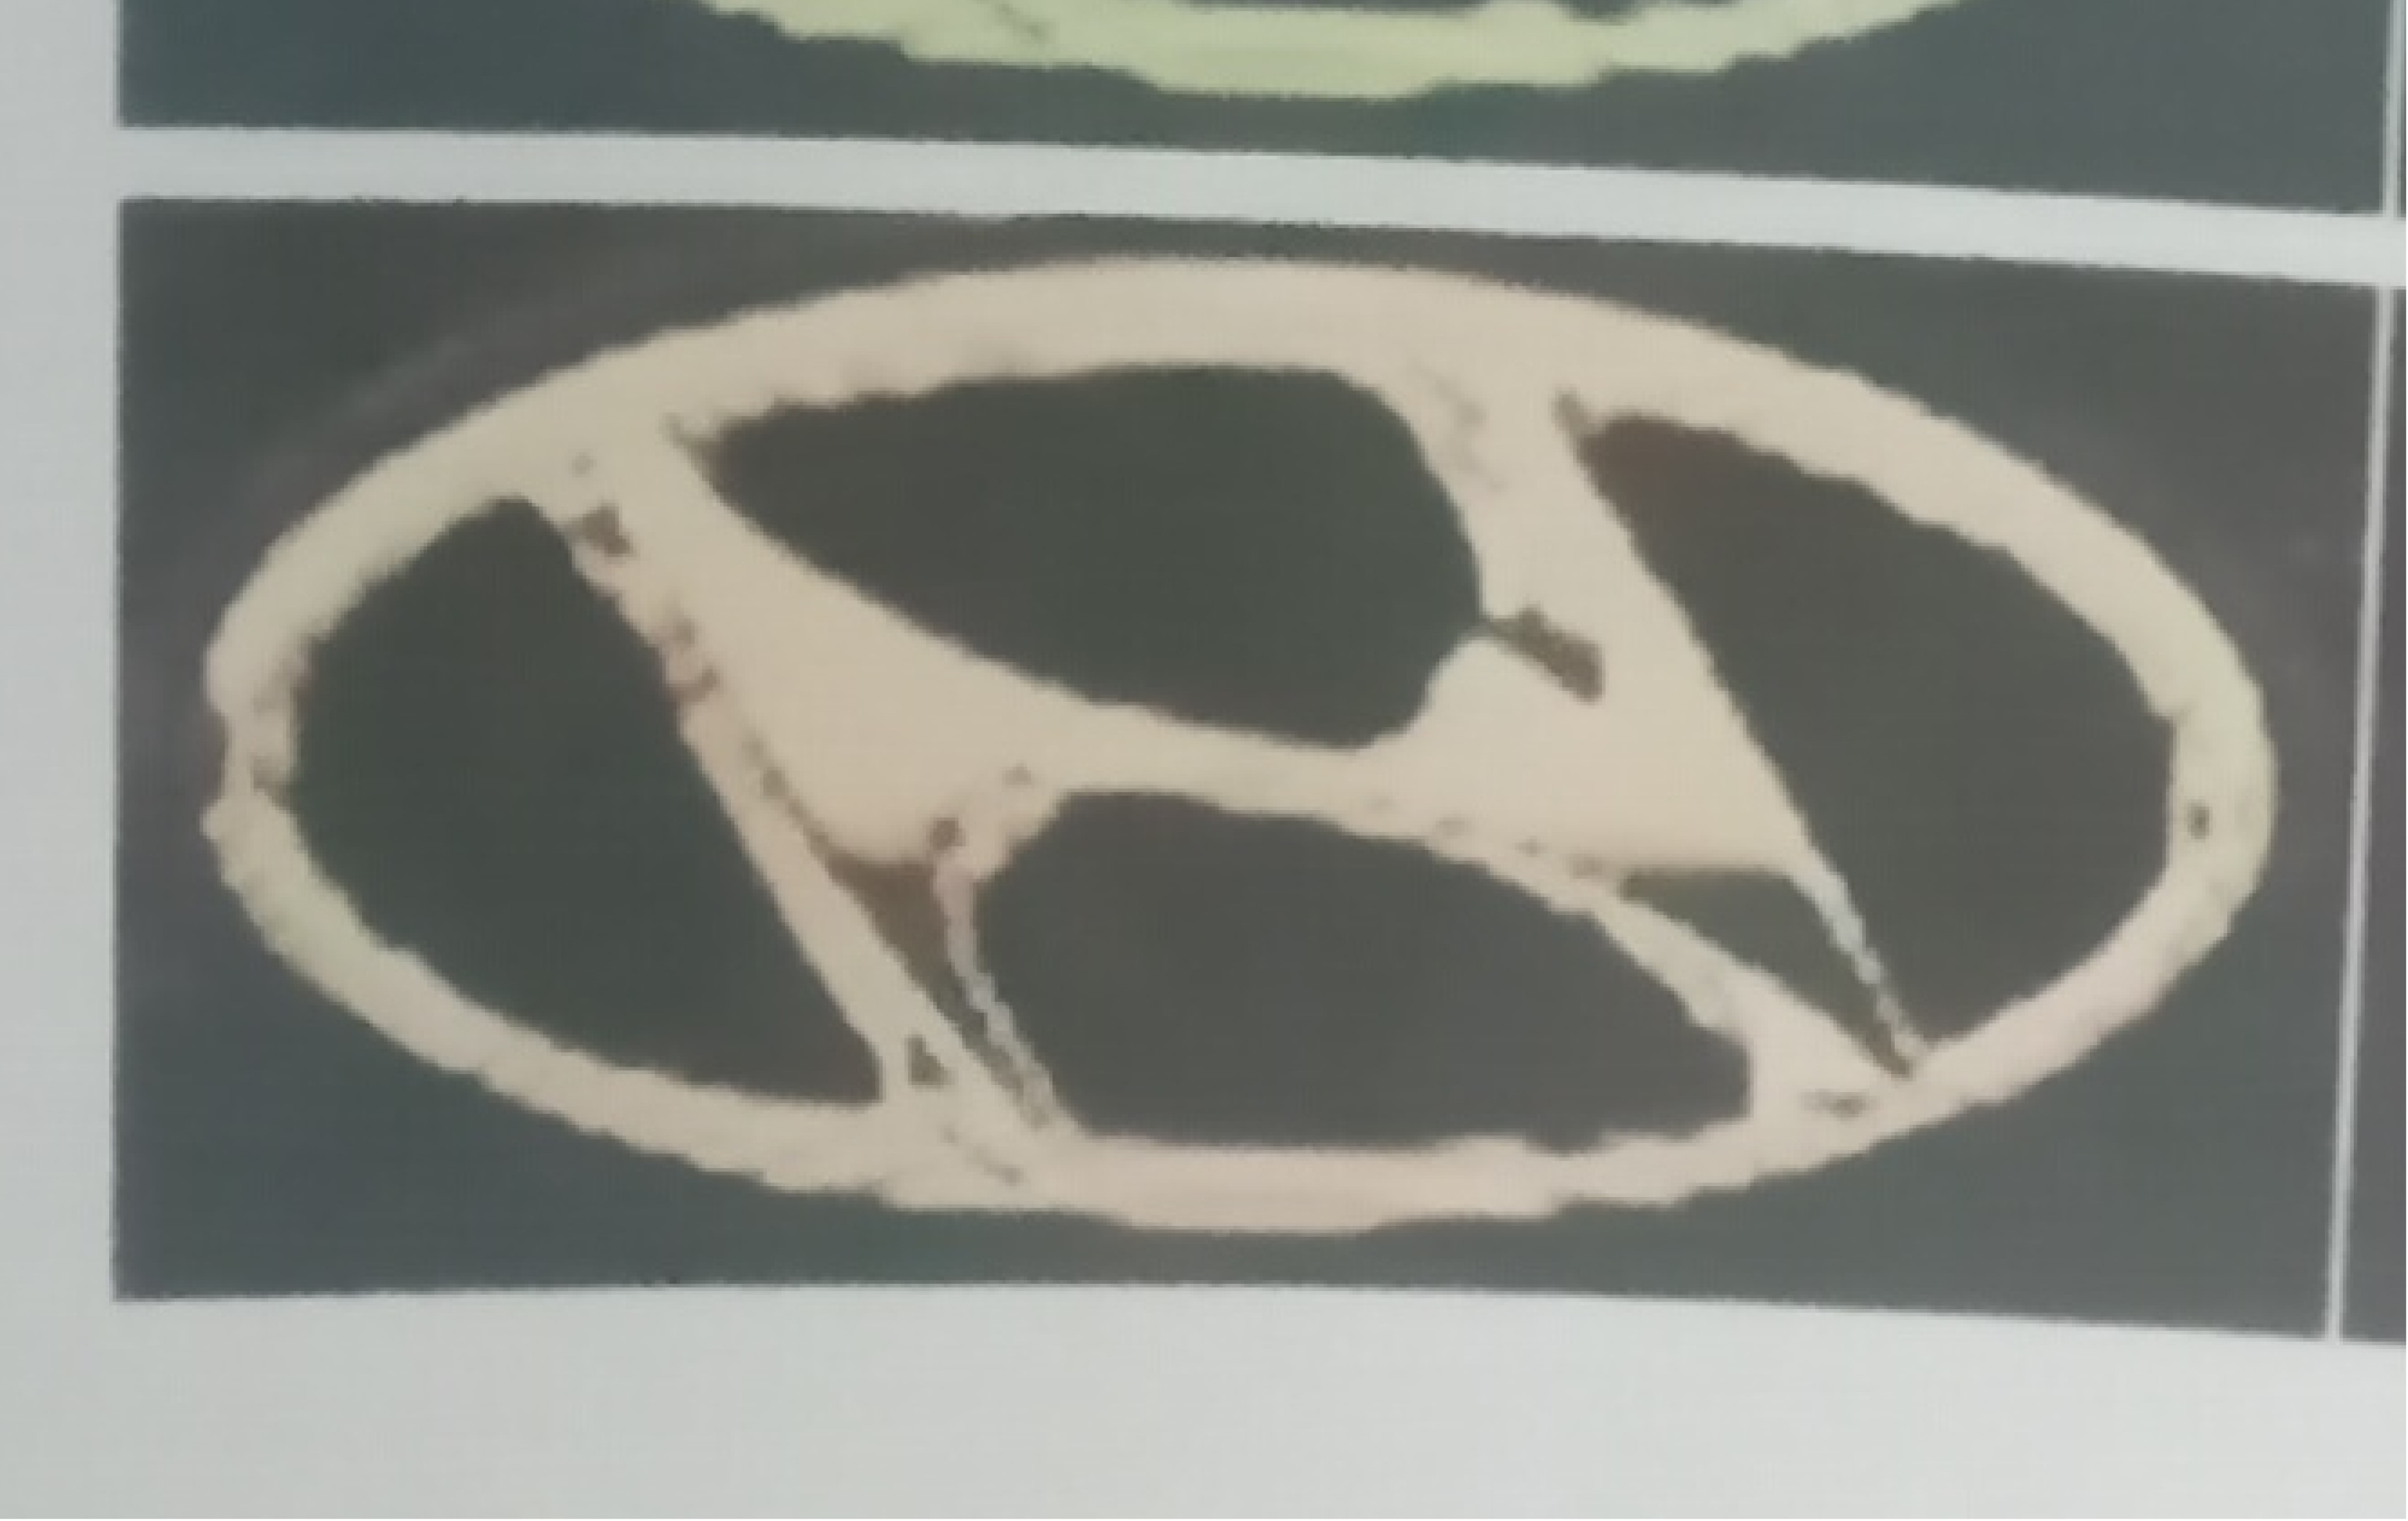Hyundai: (158, 212, 2327, 1269)
